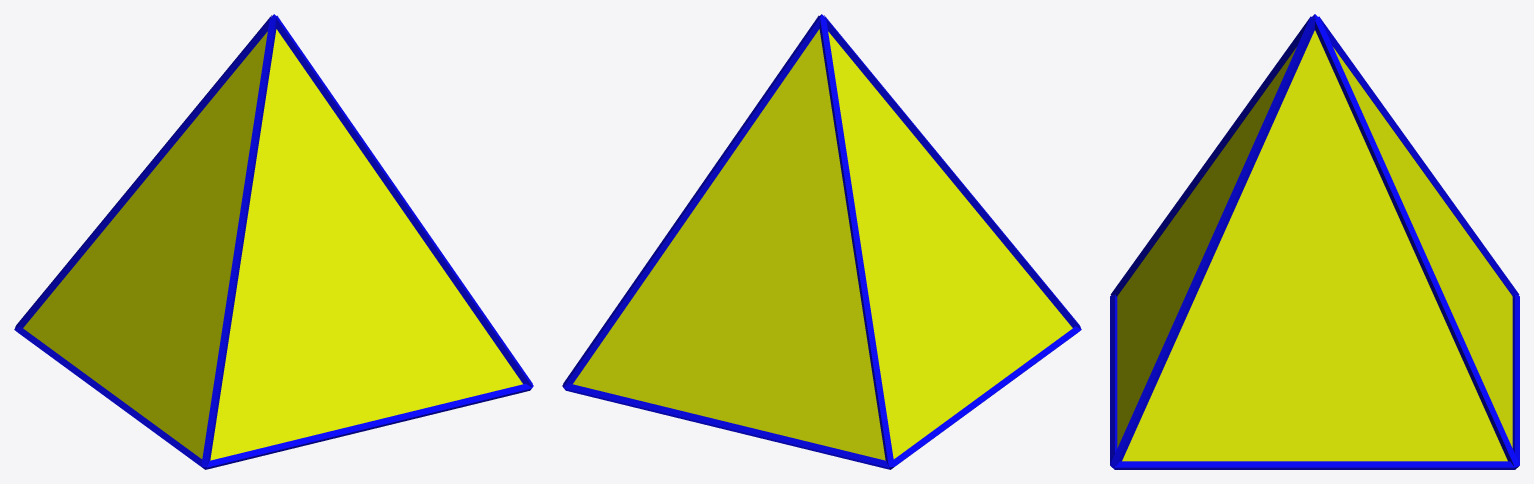
File: piramide_caras.glb
The picture shows the model from 3 angles, left to right: view 1: azimuth 30°, elevation 25°; view 2: azimuth 150°, elevation 25°; view 3: azimuth 270°, elevation 25°; orthographic projection. The views are drawn at different scales.
Parts seen in each view (by area): view 1: Pyramid003, Pyramid001; view 2: Pyramid003, Pyramid001; view 3: Pyramid003, Pyramid001.
Boxes of the visible parts, x1,y1,x2,y2 form: Pyramid003: [23, 29, 522, 460]; Pyramid001: [14, 14, 533, 469]; Pyramid003: [573, 29, 1072, 460]; Pyramid001: [562, 14, 1081, 469]; Pyramid003: [1117, 30, 1512, 461]; Pyramid001: [1110, 14, 1519, 469].
Bounding box in the file's own units: 0.6502 × 0.6502 × 0.6502.
